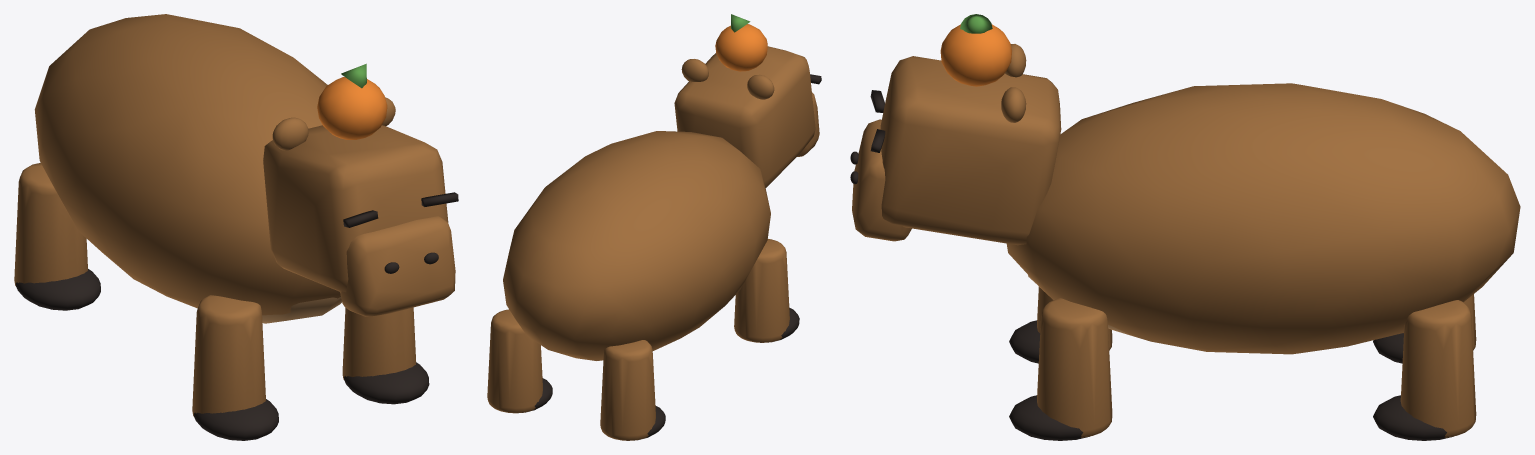
File: Capybara.fbx
The picture shows the model from 3 angles, left to right: view 1: azimuth 30°, elevation 25°; view 2: azimuth 150°, elevation 25°; view 3: azimuth 270°, elevation 25°; orthographic projection. The views are drawn at different scales.
Visible parts, largest first — view 1: Capybara; view 2: Capybara; view 3: Capybara.
Part boxes in pixels (bbox=[...]): Capybara: bbox=[14, 14, 458, 440]; Capybara: bbox=[487, 14, 821, 440]; Capybara: bbox=[850, 14, 1520, 440].
Bounding box in the file's own units: 0.6334 × 0.9092 × 1.44.
